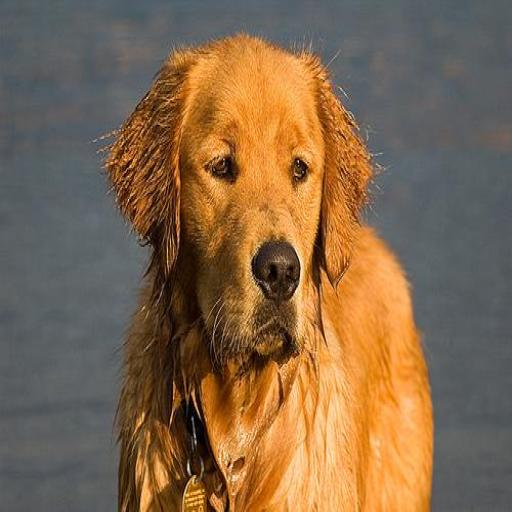dog_face: (126, 36, 364, 362)
